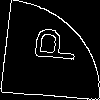P: (24, 25, 78, 63)
